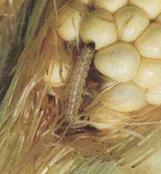pest: (60, 34, 109, 135)
